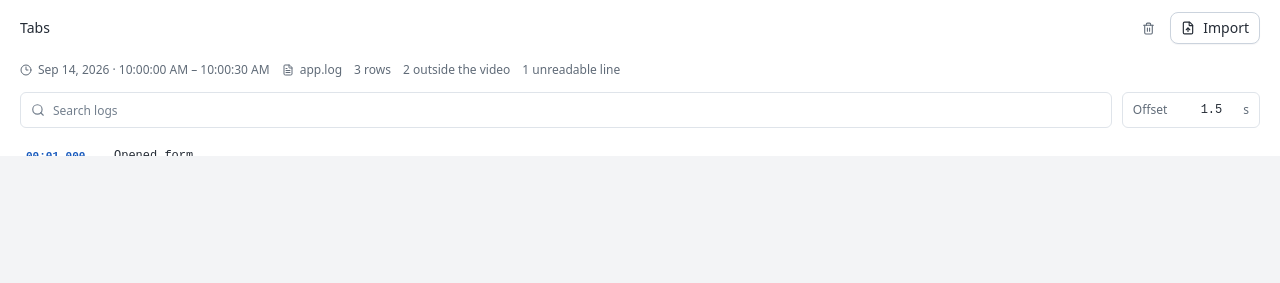
Test: TimelineImportPanel › searches every stored row in the desktop
In the field labelled "Search logs": x=577, y=110 [53,93,1101,127], type "SAVE"
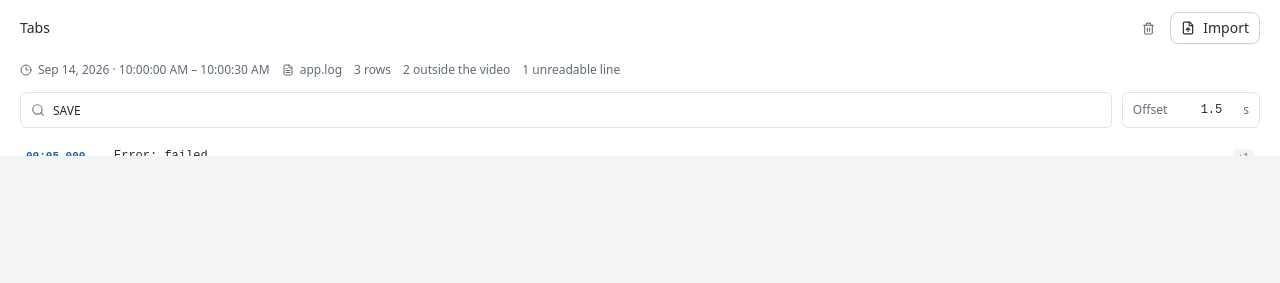
Replace the text in the field named "Search logs" with "missing": x=577, y=110 [53,93,1101,127]
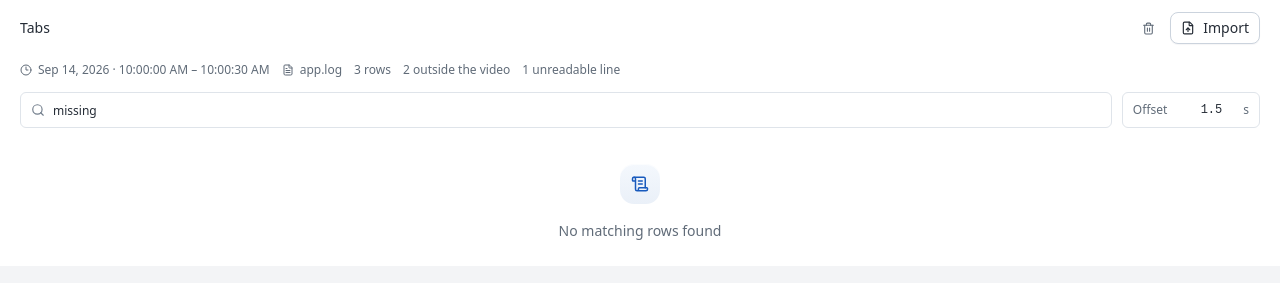
Expected: the text "No matching rows found" is shown, [558,220,721,242]
